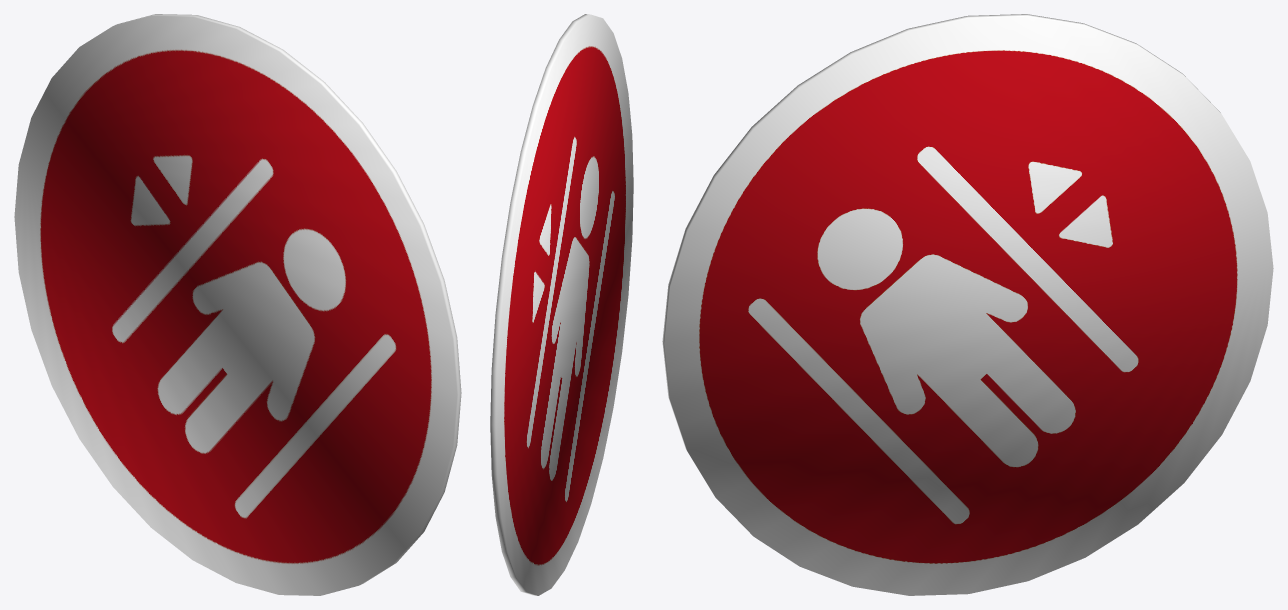
File: Circulo.fbx
The picture shows the model from 3 angles, left to right: view 1: azimuth 30°, elevation 25°; view 2: azimuth 150°, elevation 25°; view 3: azimuth 270°, elevation 25°; orthographic projection. The views are drawn at different scales.
Parts seen in each view (by area): view 1: Circle; view 2: Circle; view 3: Circle.
Boxes of the visible parts, x1,y1,x2,y2 form: Circle: (14,14,461,595); Circle: (490,14,633,595); Circle: (662,14,1273,595).
Bounding box in the file's own units: 142 × 487 × 468.
